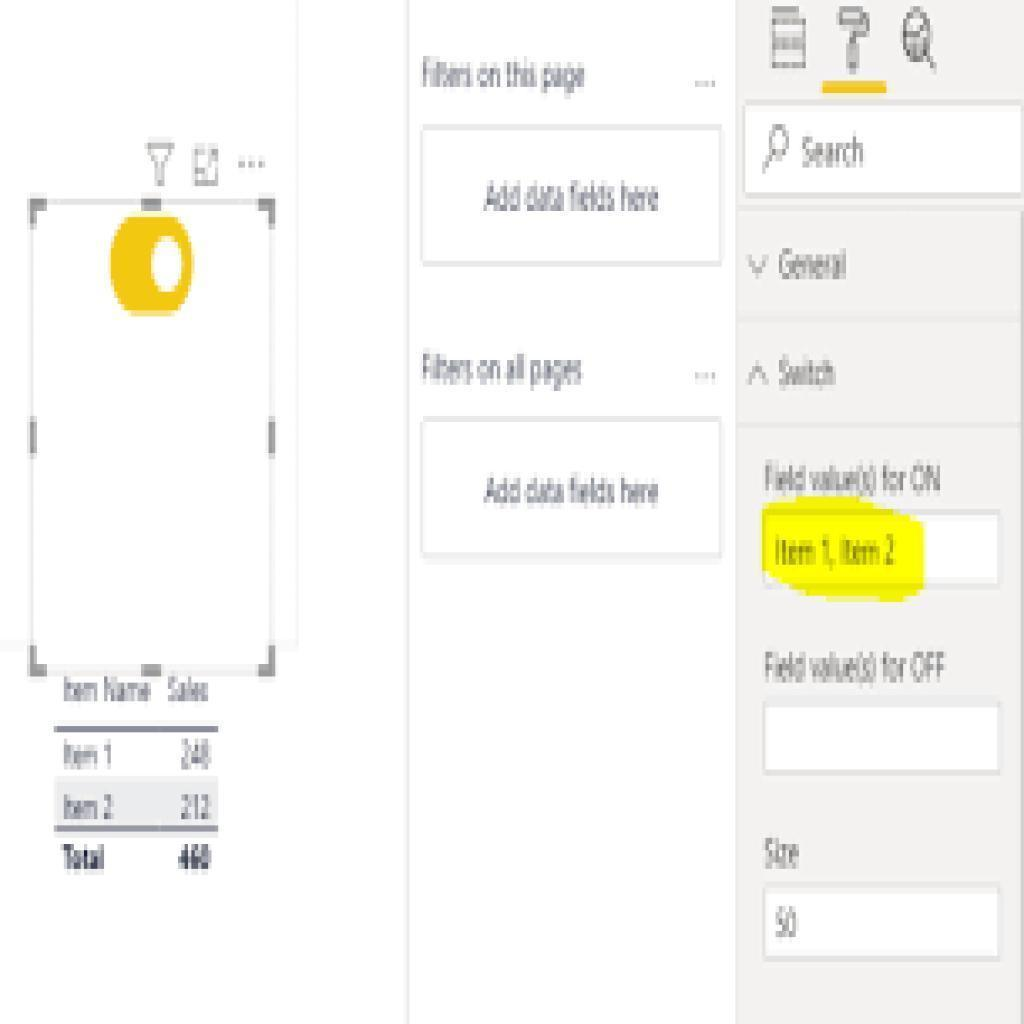dropdown: (736, 206, 1024, 318), (738, 328, 1019, 418)
icon: (827, 1, 878, 79), (766, 1, 812, 77), (897, 6, 942, 77), (757, 120, 794, 179), (143, 137, 178, 191), (191, 143, 220, 190), (231, 151, 271, 177), (687, 366, 722, 388), (690, 74, 721, 92)
input: (741, 100, 1023, 195), (764, 510, 999, 589), (763, 881, 1001, 959), (764, 704, 1001, 774)
label: (760, 453, 946, 504), (420, 49, 590, 99), (760, 646, 952, 690), (417, 350, 588, 399), (759, 831, 806, 875)
switch: (110, 211, 194, 323)
